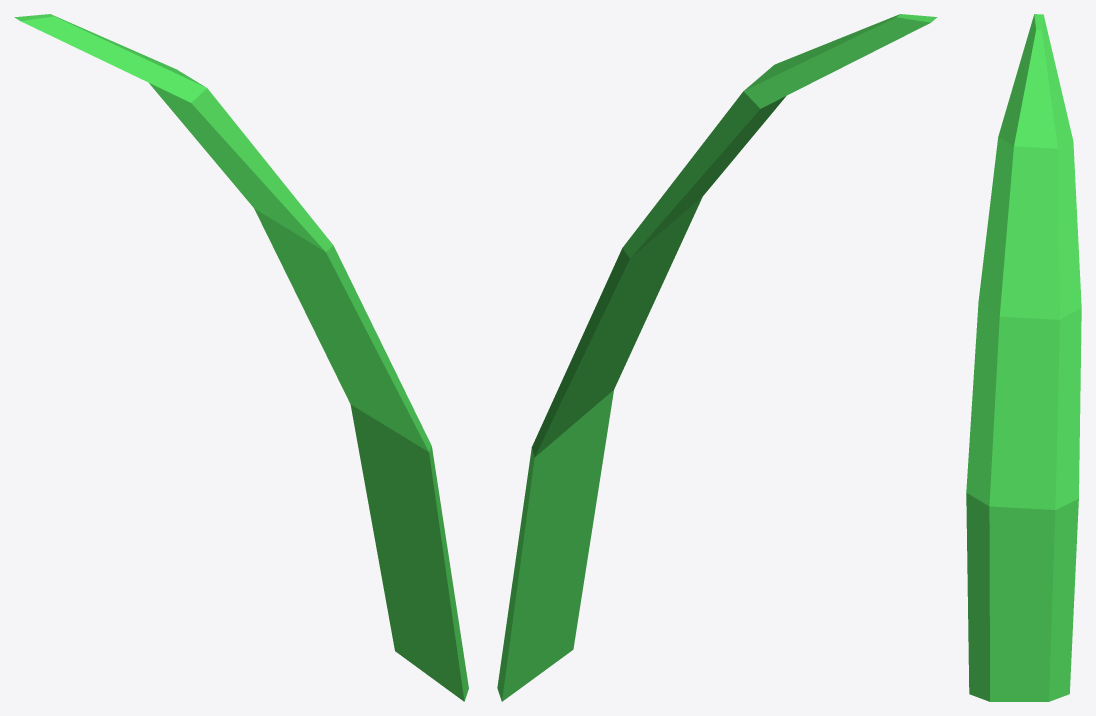
File: Grass2.fbx
3 views of the same model, side by side, from view 1: azimuth 30°, elevation 25°; view 2: azimuth 150°, elevation 25°; view 3: azimuth 270°, elevation 25° (orthographic). The views are drawn at different scales.
Visible parts, largest first — view 1: Cube.002; view 2: Cube.002; view 3: Cube.002.
Part boxes in pixels (x1,y1,x2,y2): Cube.002: [14, 14, 468, 701]; Cube.002: [497, 14, 937, 701]; Cube.002: [966, 14, 1081, 701].
Bounding box in the file's own units: 586 × 1000 × 193.
